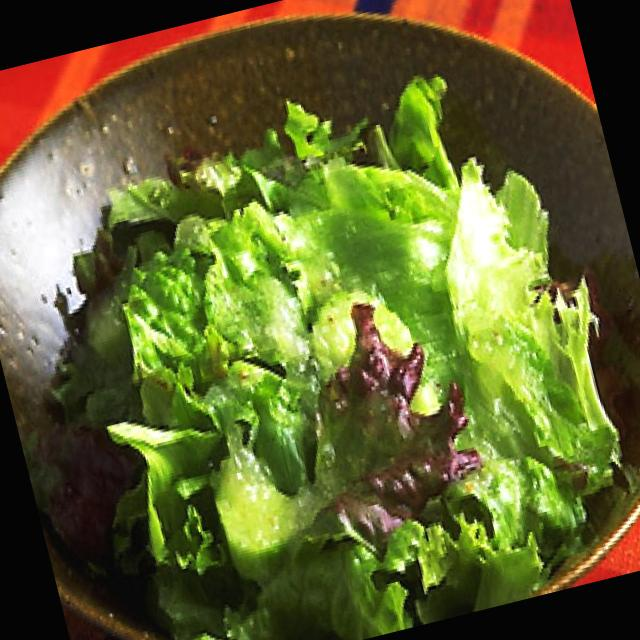Green Salad: (35, 70, 640, 640)
